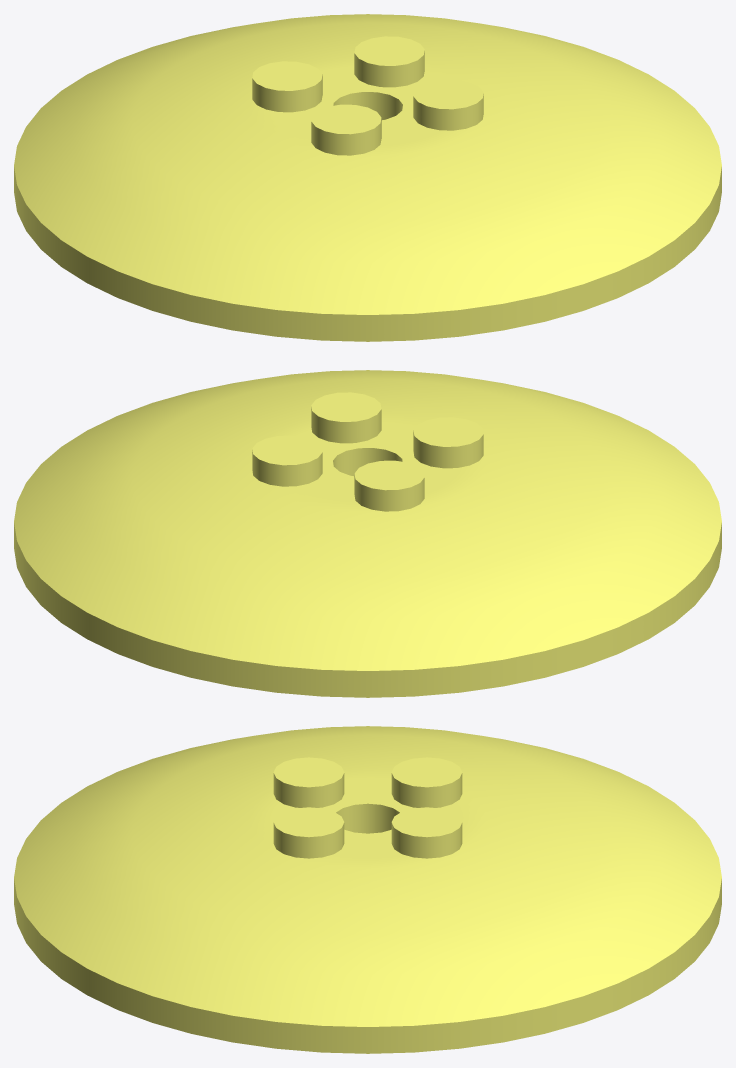
The picture shows the model from 3 angles, top to bottom: view 1: azimuth 30°, elevation 25°; view 2: azimuth 150°, elevation 25°; view 3: azimuth 270°, elevation 25°; orthographic projection.
Visible parts, largest first — view 1: 44375b.dat; view 2: 44375b.dat; view 3: 44375b.dat.
Part boxes in pixels (x1,y1,x2,y2): 44375b.dat: (14,14,721,341); 44375b.dat: (14,370,721,697); 44375b.dat: (14,726,721,1053).
Size of the model in its own units: 0.048 by 0.008 by 0.048.
